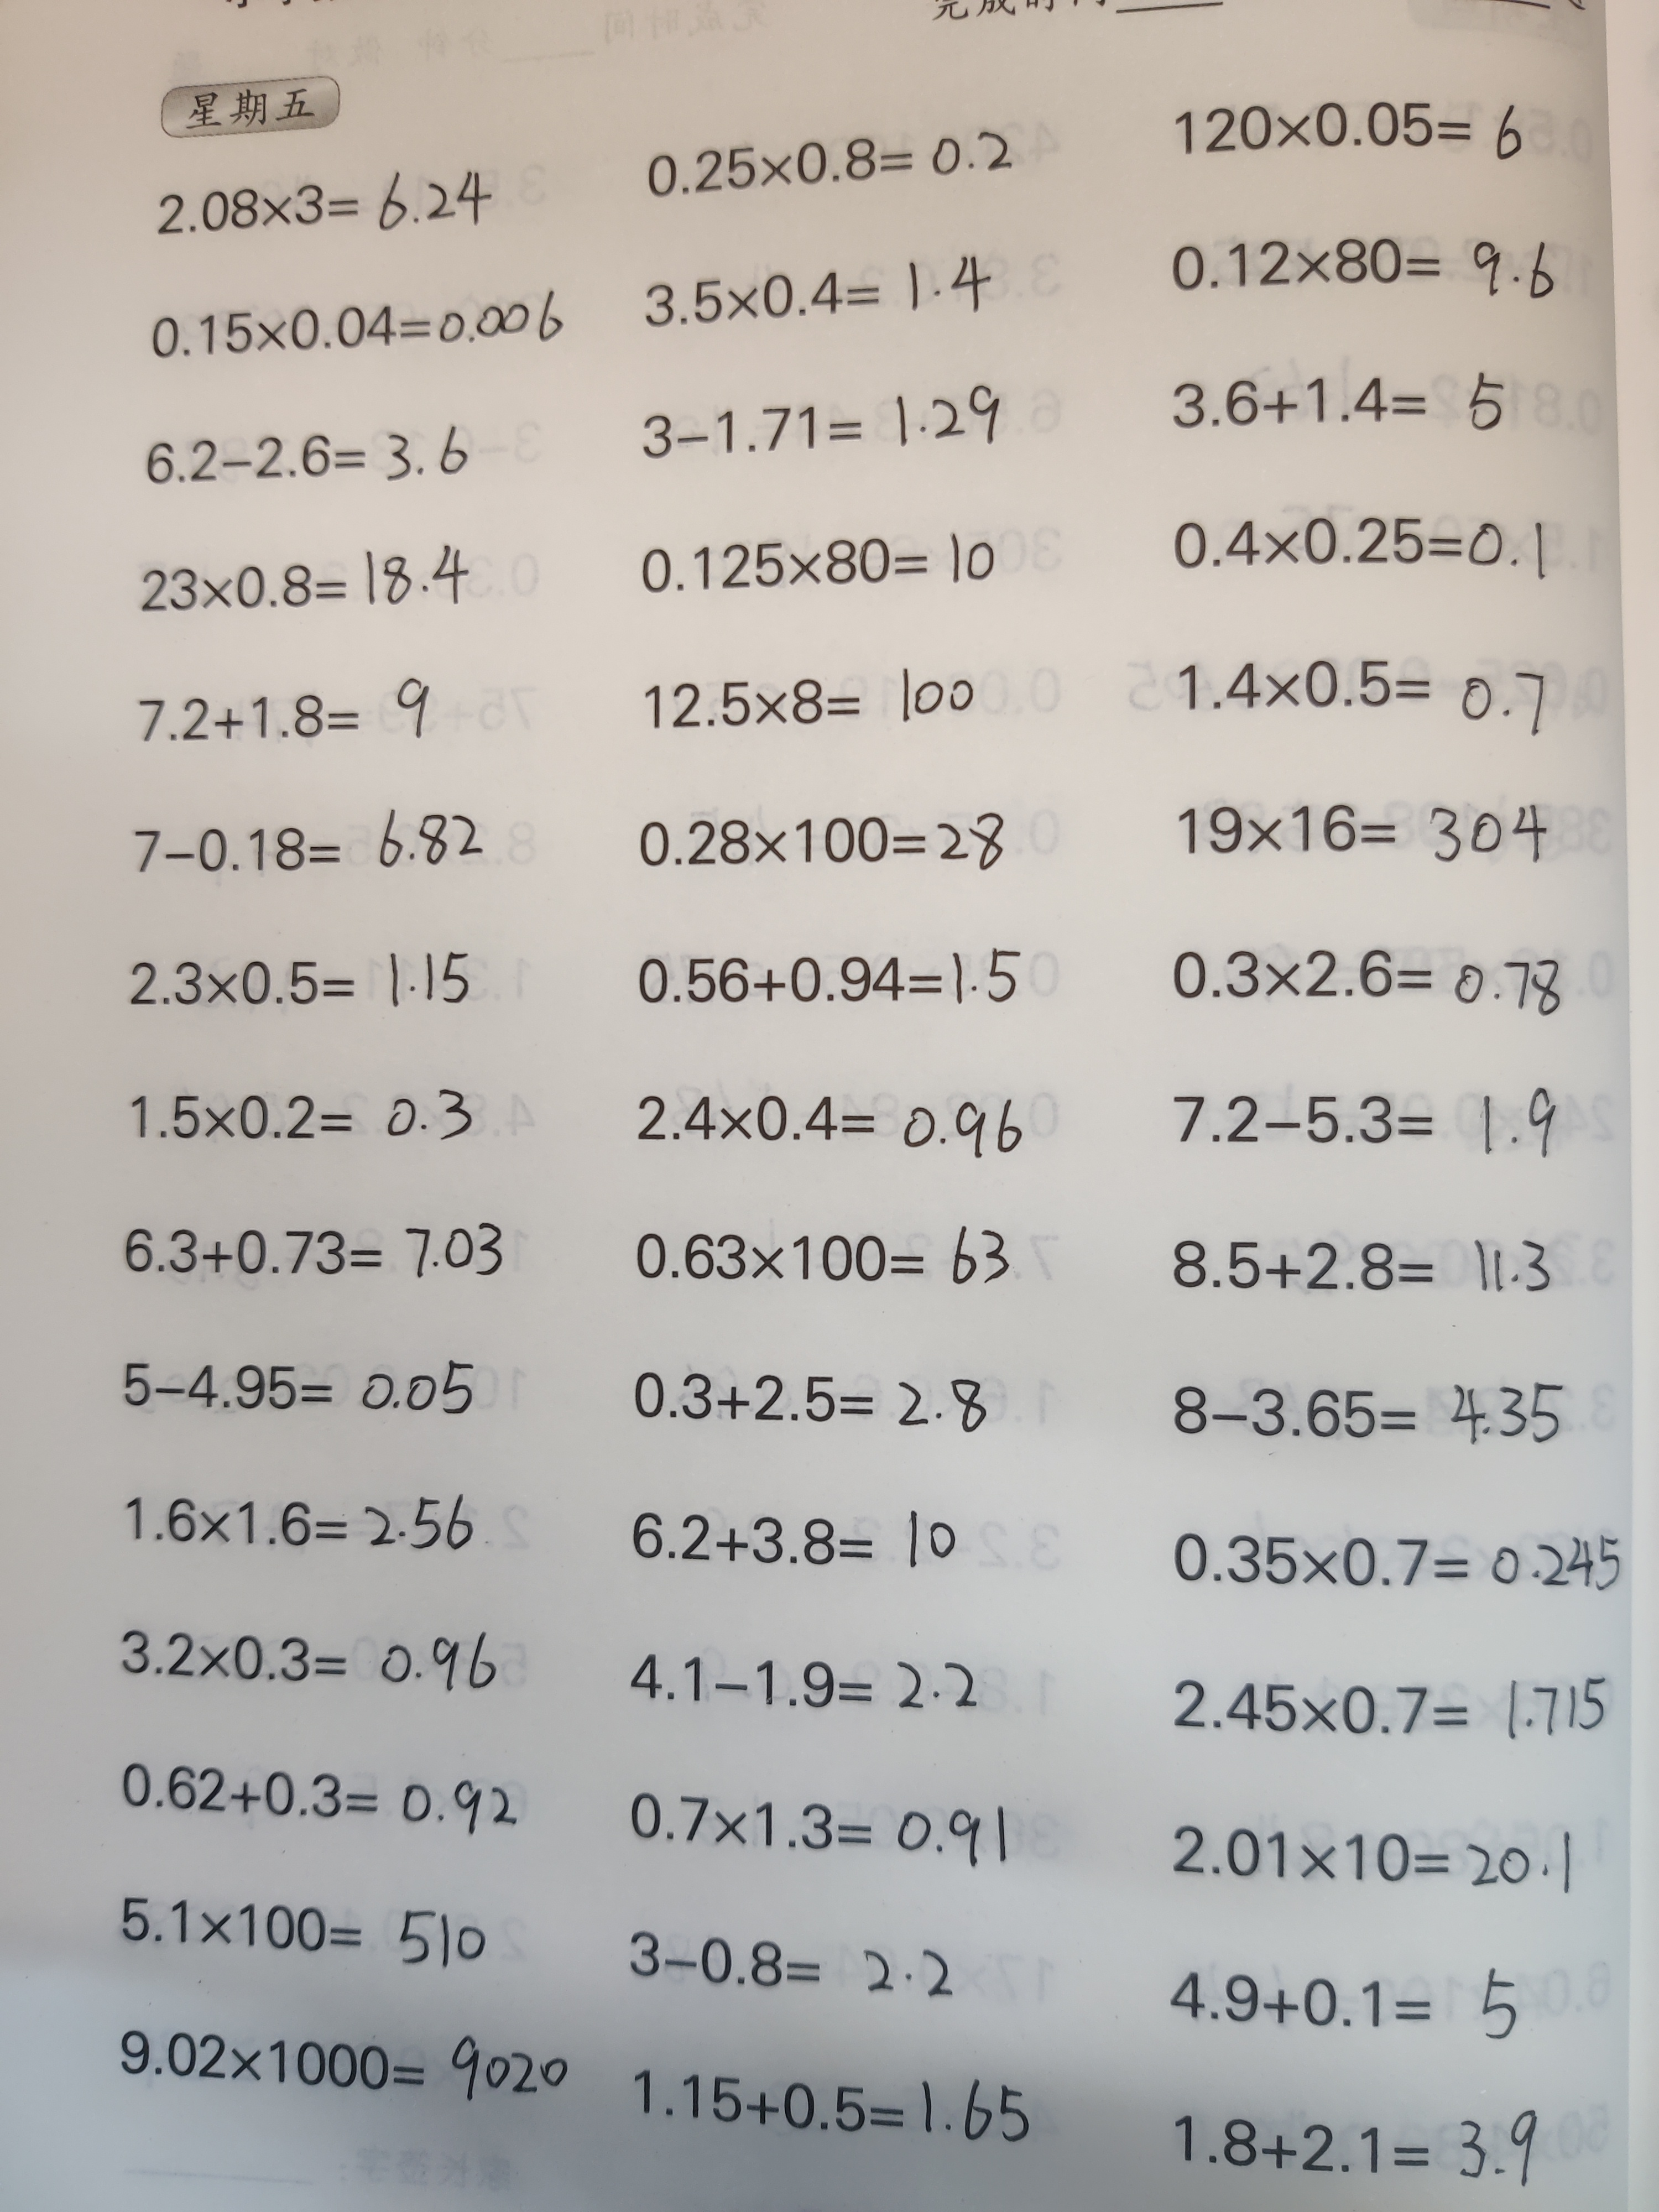equation: (1155, 1491, 1624, 1616), (105, 1606, 512, 1730), (1152, 1813, 1591, 1921), (106, 2010, 573, 2111), (606, 1348, 1009, 1465), (622, 1775, 1025, 1888), (610, 1073, 1032, 1181), (622, 369, 1011, 486), (112, 1745, 530, 1853), (94, 1878, 512, 1986), (1168, 634, 1554, 751), (1164, 770, 1561, 883), (626, 2052, 1042, 2160), (1155, 500, 1561, 606), (1168, 1663, 1617, 1759), (610, 1212, 1028, 1315), (1157, 1366, 1575, 1468), (1169, 935, 1572, 1042), (145, 284, 566, 385), (112, 1200, 521, 1303), (1161, 221, 1568, 324), (105, 1329, 474, 1442), (1162, 2085, 1549, 2193), (1157, 1075, 1563, 1177), (610, 1914, 972, 2029), (1152, 1216, 1563, 1317), (610, 1632, 990, 1740), (98, 1474, 497, 1575), (1164, 352, 1521, 463), (624, 517, 1011, 620), (626, 242, 1004, 347), (626, 650, 990, 758), (610, 1484, 978, 1587), (129, 529, 481, 634), (626, 803, 1016, 897), (626, 942, 1032, 1031), (113, 928, 481, 1026), (1164, 94, 1539, 188), (120, 1075, 479, 1170), (1155, 1958, 1530, 2047), (113, 662, 436, 765), (615, 122, 1035, 200), (118, 801, 486, 887), (120, 418, 484, 500), (150, 164, 502, 247)
